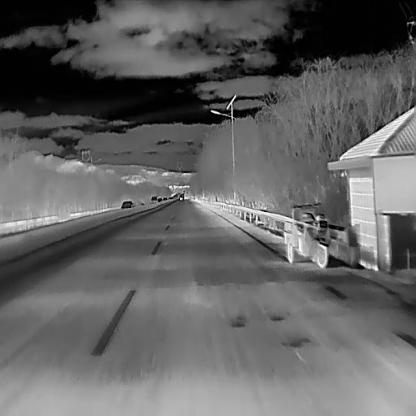car: (120, 200, 133, 209), (150, 195, 158, 203), (183, 192, 189, 200), (179, 196, 183, 201)
